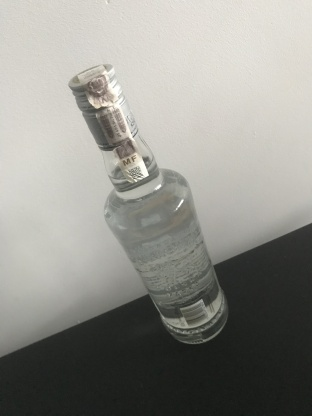nakretka: (66, 61, 140, 152)
